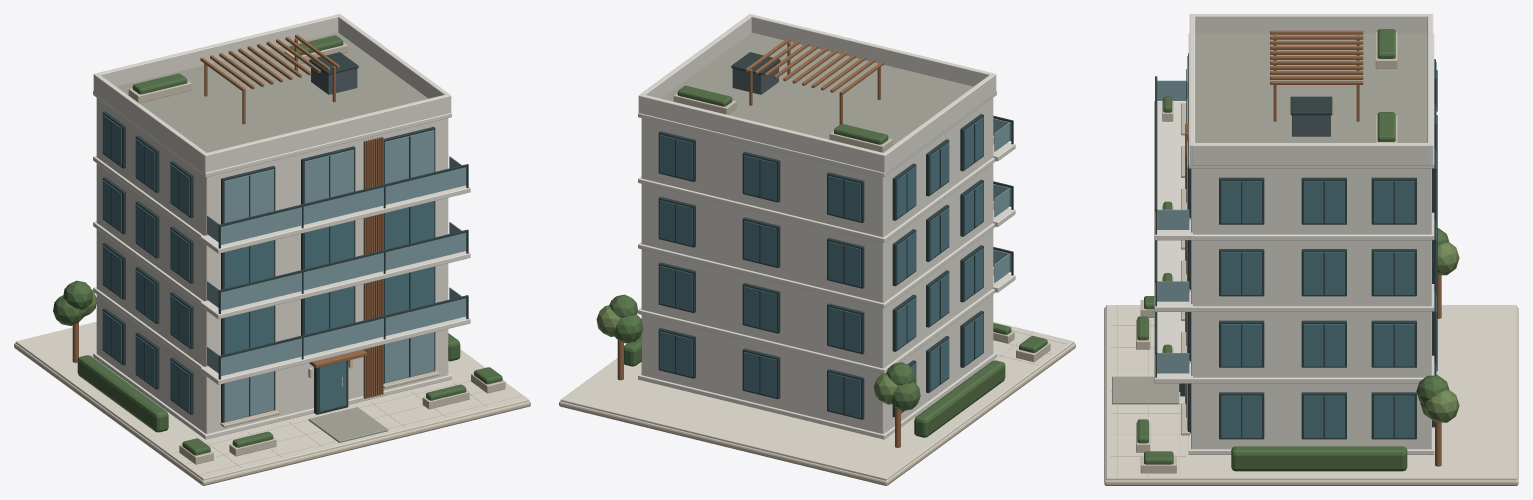
File: mansion-b-4x4-4f.glb
The picture shows the model from 3 angles, left to right: view 1: azimuth 30°, elevation 25°; view 2: azimuth 150°, elevation 25°; view 3: azimuth 270°, elevation 25°; orthographic projection. The views are drawn at different scales.
Parts seen in each view (by area): view 1: Building_FourStoreys, RoofDeck, Lot_Top, Parapet, BalconyGlass.001, BalconyGlass, BalconyGlass.002, Parapet.001, Lot_4x4, Parapet.002, BoundaryHedge, FrontBalconySlab (+42 smaller); view 2: Building_FourStoreys, Lot_Top, RoofDeck, Parapet.001, Parapet, Lot_4x4, Parapet.002, BoundaryHedge, FloorBand_2, FloorBand_3, FloorBand_0, FloorBand_1 (+30 smaller); view 3: Building_FourStoreys, Lot_Top, RoofDeck, Parapet.003, BoundaryHedge.001, Parapet.002, Lot_4x4, FrontBalconySlab.002, Entry_Path, SideGlass_F1, SideGlass_F1.001, SideGlass_F1.002 (+43 smaller).
Boxes of the visible parts, box(x1,y1,x2,y2) form: Building_FourStoreys: box(96, 98, 448, 433); RoofDeck: box(117, 32, 428, 152); Lot_Top: box(15, 321, 529, 480); Parapet: box(203, 94, 451, 172); BalconyGlass.001: box(221, 233, 466, 310); BalconyGlass: box(221, 298, 466, 376); BalconyGlass.002: box(221, 167, 466, 244); Parapet.001: box(93, 14, 341, 92); Lot_4x4: box(14, 343, 530, 485); Parapet.002: box(94, 74, 206, 173); BoundaryHedge: box(77, 355, 168, 432); FrontBalconySlab: box(200, 316, 470, 384); Building_FourStoreys: box(641, 98, 993, 433); Lot_Top: box(560, 321, 1074, 480); RoofDeck: box(661, 32, 972, 145); Parapet.001: box(638, 94, 886, 173); Parapet: box(748, 14, 996, 92); Lot_4x4: box(559, 343, 1075, 485); Parapet.002: box(883, 74, 995, 173); BoundaryHedge: box(914, 360, 1005, 437); FloorBand_2: box(638, 223, 995, 308); FloorBand_3: box(638, 157, 995, 242); FloorBand_0: box(638, 352, 996, 439); FloorBand_1: box(638, 288, 995, 373); Building_FourStoreys: box(1191, 168, 1431, 449); Lot_Top: box(1106, 305, 1516, 480); RoofDeck: box(1195, 33, 1427, 142); Parapet.003: box(1192, 143, 1430, 165); BoundaryHedge.001: box(1231, 446, 1407, 471); Parapet.002: box(1193, 14, 1428, 33); Lot_4x4: box(1104, 307, 1518, 485); FrontBalconySlab.002: box(1154, 101, 1192, 240); Entry_Path: box(1112, 376, 1179, 404); SideGlass_F1: box(1221, 395, 1261, 438); SideGlass_F1.001: box(1304, 395, 1344, 438); SideGlass_F1.002: box(1374, 395, 1414, 438).
Bounding box in the file's own units: 16 × 14.61 × 16.
